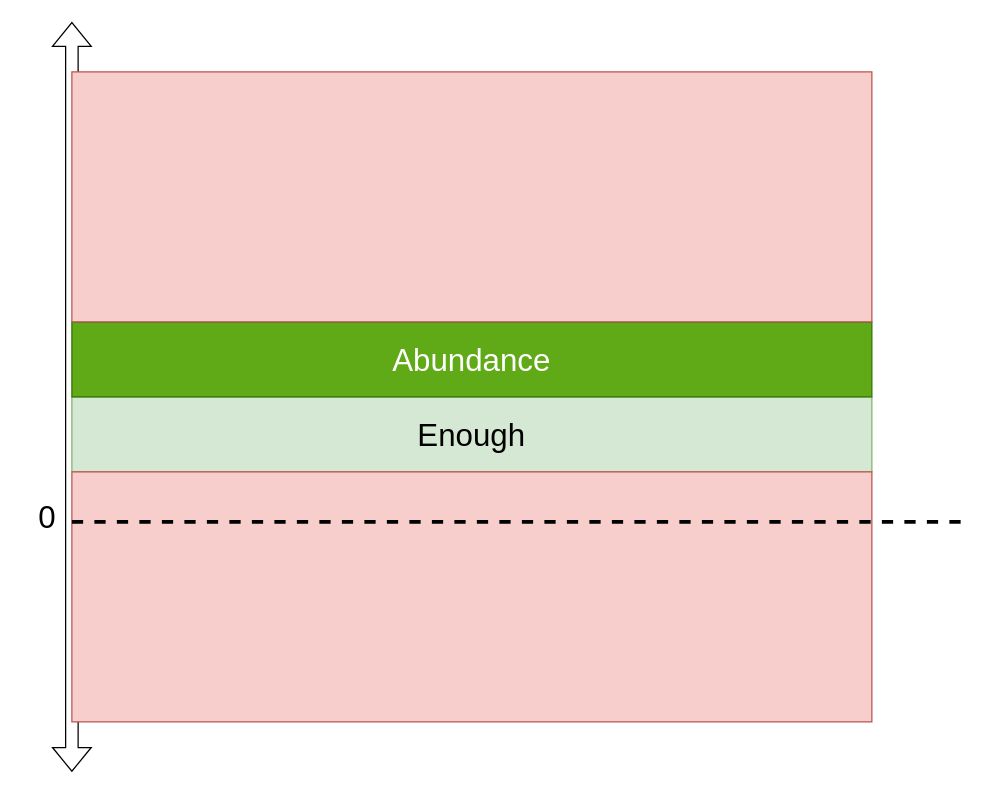
The diagram is 996 pixels wide and 793 high, and some of its shapes have lost their labels. Here are the shapes that lost their labels. From the top down, the box of each, then its label:
(71, 71, 872, 322): Greed
(71, 471, 872, 722): Scarcity
